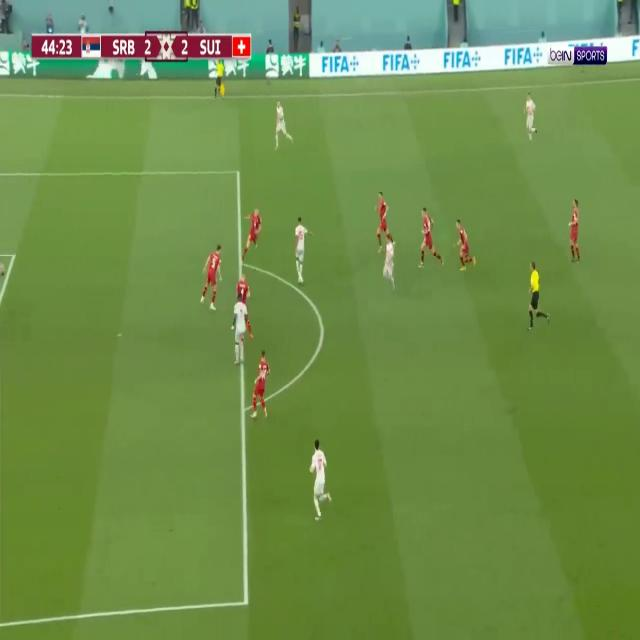GoalKeeper: (0, 259, 7, 280)
Referee: (526, 260, 552, 332), (214, 60, 225, 100)
TEAM 1: (199, 240, 224, 313), (419, 206, 444, 270), (451, 217, 478, 274), (250, 348, 271, 419), (375, 188, 395, 252), (240, 205, 262, 263), (237, 273, 254, 339), (567, 198, 582, 266)
TEAM 2: (309, 438, 332, 523), (293, 215, 316, 285), (231, 291, 247, 367), (274, 100, 294, 152), (381, 232, 398, 292), (523, 90, 539, 145)
